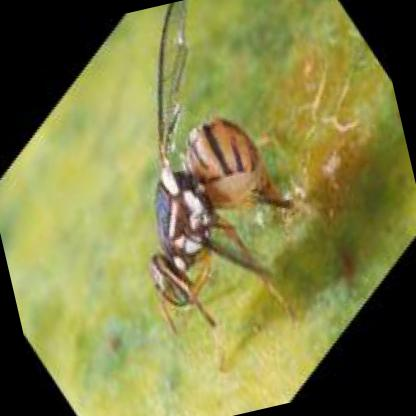fruit fly: (144, 2, 287, 313)
